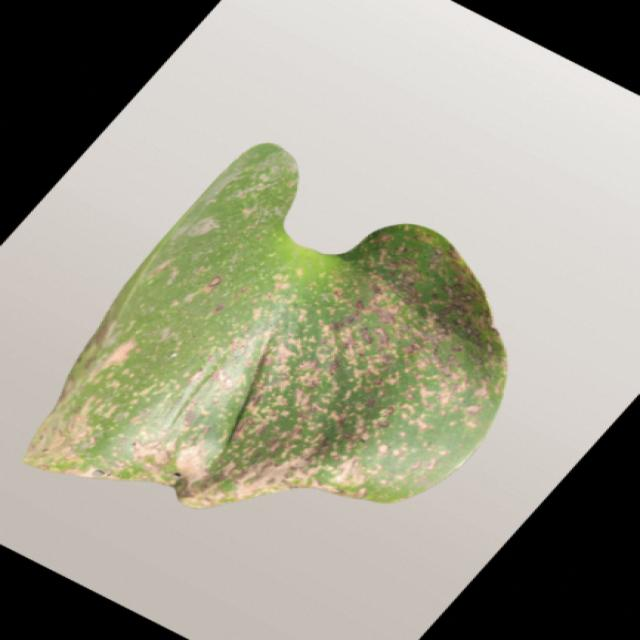daun berpenyakit bercak: (25, 144, 505, 507)
